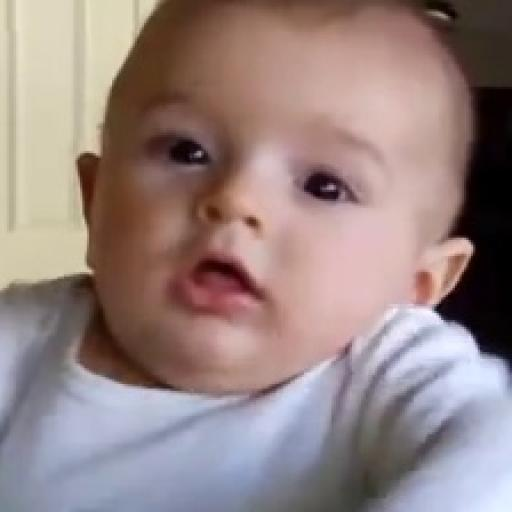Autism: (118, 3, 487, 446)
